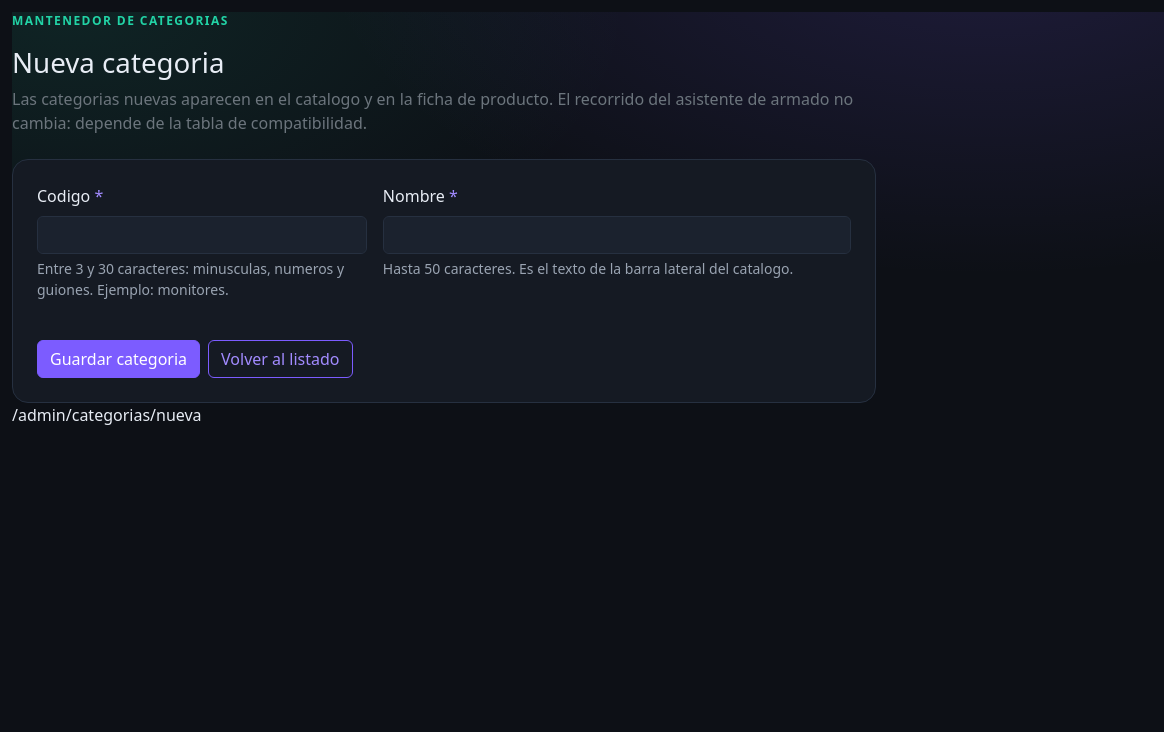
Test: admin / FormularioCategoria › crear › un codigo repetido se rechaza (RF-25 CA2)
In the field labelled "Codigo *": point(202, 235) [37, 216, 367, 254], type "cpu"
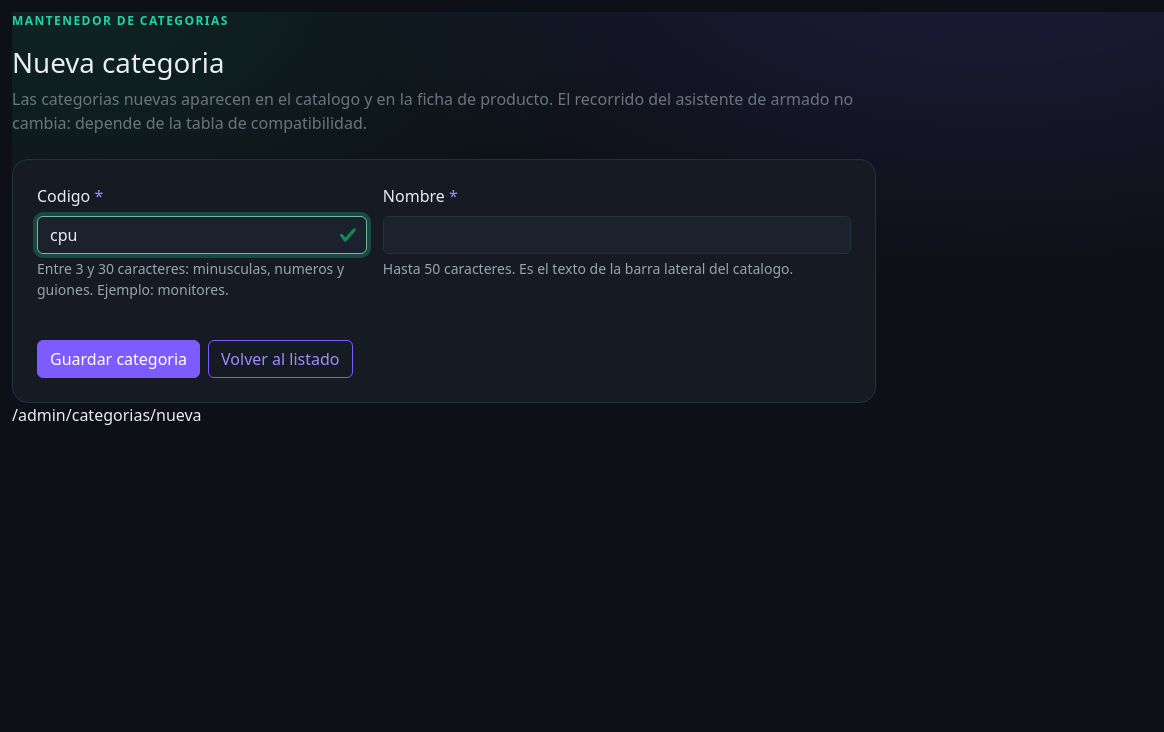
In the field labelled "Nombre *": point(617, 235) [383, 216, 851, 254], type "Otra CPU"
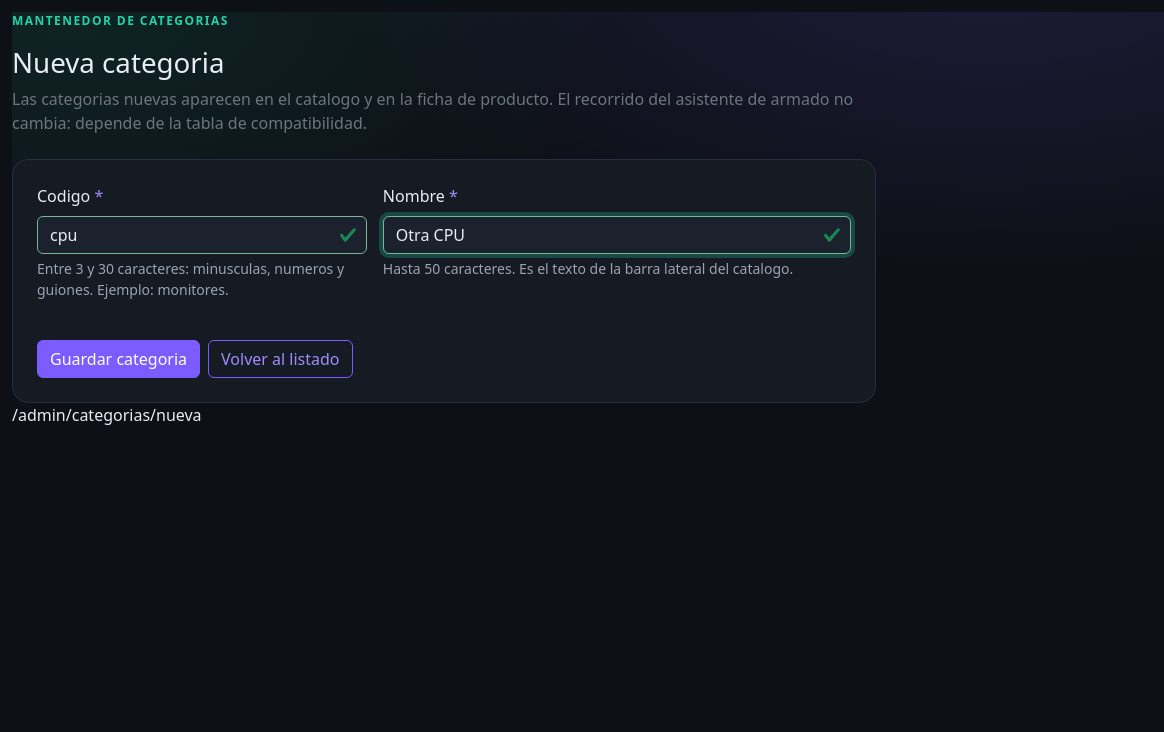
Click the button "Guardar categoria": point(119, 359) [37, 340, 200, 378]
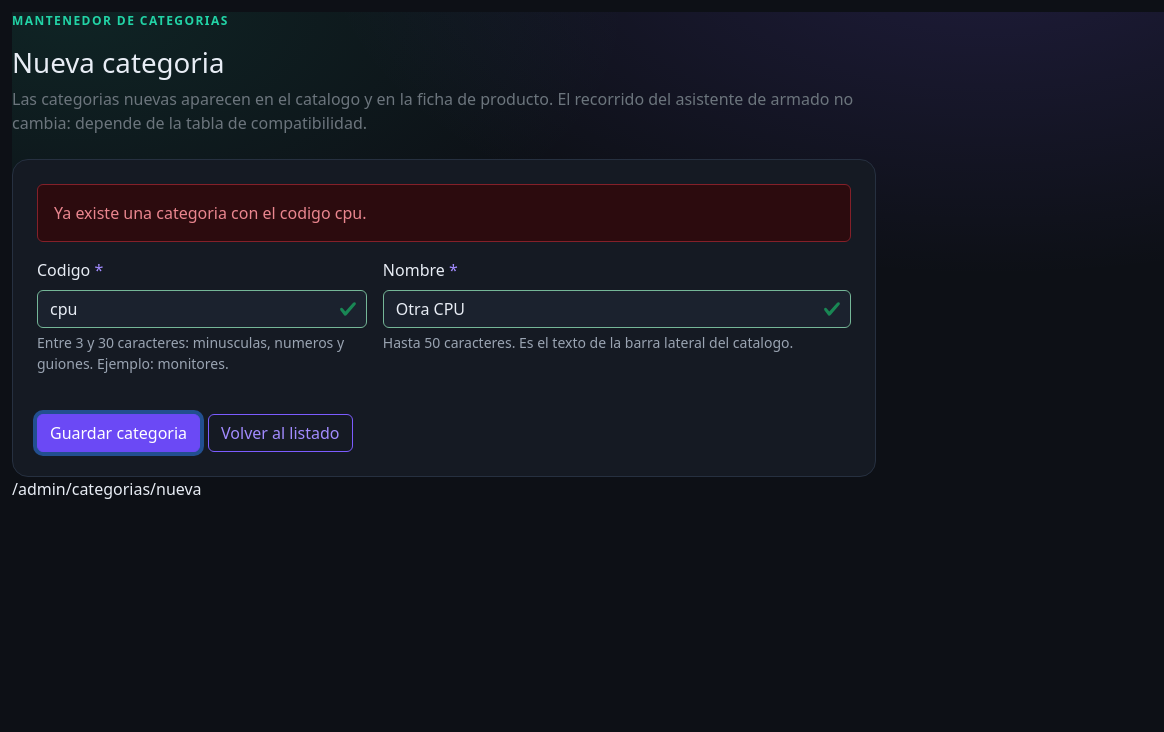
Expected: the text with test id "ubicacion" reads "/admin/categorias/nueva", [12, 478, 202, 500]
Expected: the message reads "Ya existe una categoria con el codigo cpu.", [54, 202, 366, 224]
